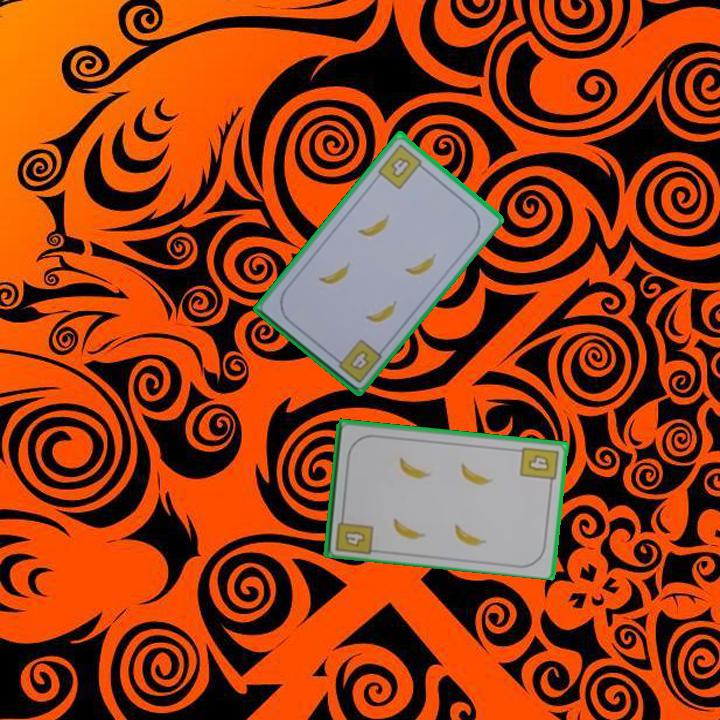4b: (374, 140, 429, 192), (331, 509, 376, 557), (516, 443, 561, 489), (345, 346, 372, 373)
